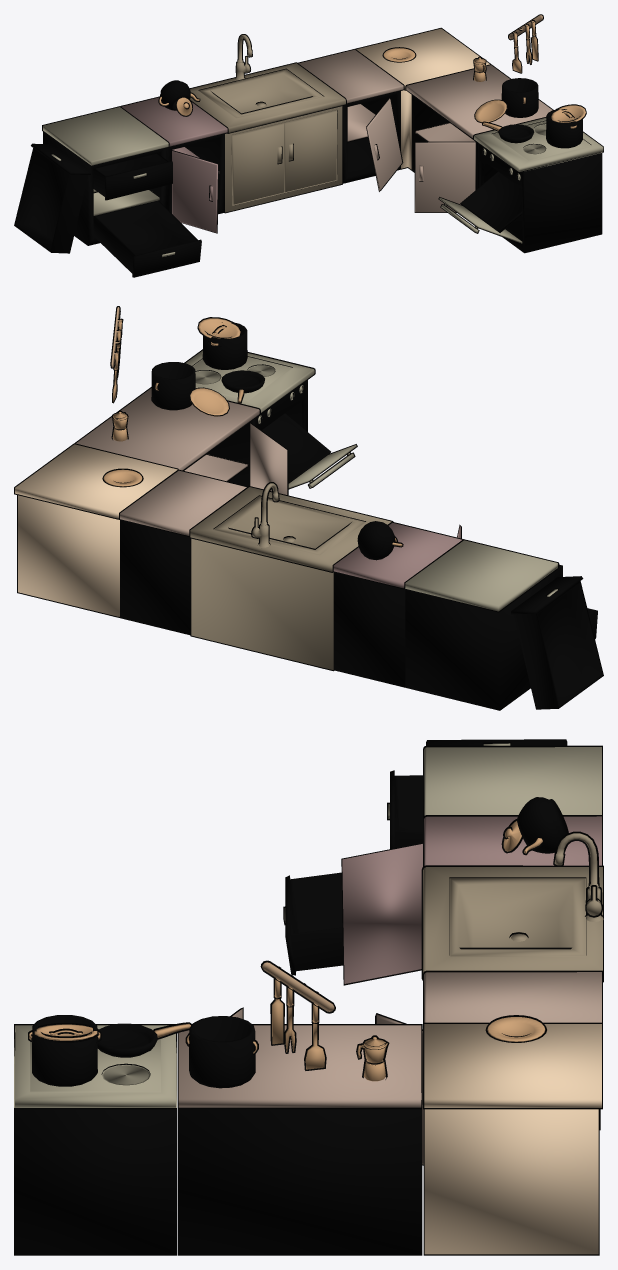
The model's file is Cocina.fbx.
3 views of the same model, one above another, from view 1: azimuth 30°, elevation 25°; view 2: azimuth 150°, elevation 25°; view 3: azimuth 270°, elevation 25° (orthographic). The views are drawn at different scales.
Parts seen in each view (by area): view 1: Commode, Sink, Oven, 2Door, 1Door.Door, 1Door.L, Corner, Oven.Plate, Pot#2, Pot, Teapot, Pan (+3 smaller); view 2: Commode, Sink, Corner, 1Door.Door, 2Door, 1Door.L, Oven, Oven.Plate, Pot#2, Pot, Teapot, Pot#2.Cover (+3 smaller); view 3: 2Door, Corner, Oven, Commode, Sink, 1Door.L, 1Door.Door, Pot#2, Pot, Teapot, Pan, Plate#3.3 (+5 smaller).
Boxes of the visible parts, x1,y1,x2,y2 form: Commode: [14, 106, 201, 277]; Sink: [190, 34, 346, 213]; Oven: [438, 117, 603, 253]; 2Door: [405, 64, 553, 212]; 1Door.Door: [297, 49, 404, 191]; 1Door.L: [120, 96, 228, 233]; Corner: [355, 27, 490, 170]; Oven.Plate: [460, 171, 522, 232]; Pot#2: [501, 78, 538, 117]; Pot: [546, 109, 582, 148]; Teapot: [158, 80, 200, 110]; Pan: [482, 121, 534, 143]; Commode: [404, 539, 603, 710]; Sink: [189, 482, 393, 671]; Corner: [14, 443, 178, 617]; 1Door.Door: [119, 469, 247, 635]; 2Door: [75, 387, 288, 495]; 1Door.L: [332, 521, 463, 687]; Oven: [184, 349, 357, 489]; Oven.Plate: [262, 413, 330, 483]; Pot#2: [151, 362, 195, 410]; Pot: [202, 322, 247, 369]; Teapot: [357, 521, 403, 560]; Pot#2.Cover: [189, 387, 229, 416]; 2Door: [177, 1007, 422, 1255]; Corner: [423, 1022, 602, 1255]; Oven: [14, 1024, 176, 1255]; Commode: [283, 739, 602, 975]; Sink: [421, 831, 603, 1130]; 1Door.L: [341, 815, 602, 985]; 1Door.Door: [375, 970, 602, 1165]; Pot#2: [185, 1016, 258, 1088]; Pot: [28, 1015, 101, 1086]; Teapot: [517, 797, 568, 855]; Pan: [97, 1022, 191, 1057]; Plate#3.3: [485, 1015, 546, 1042].
Size of the model in its own units: 5.07 by 1.86 by 3.2.
